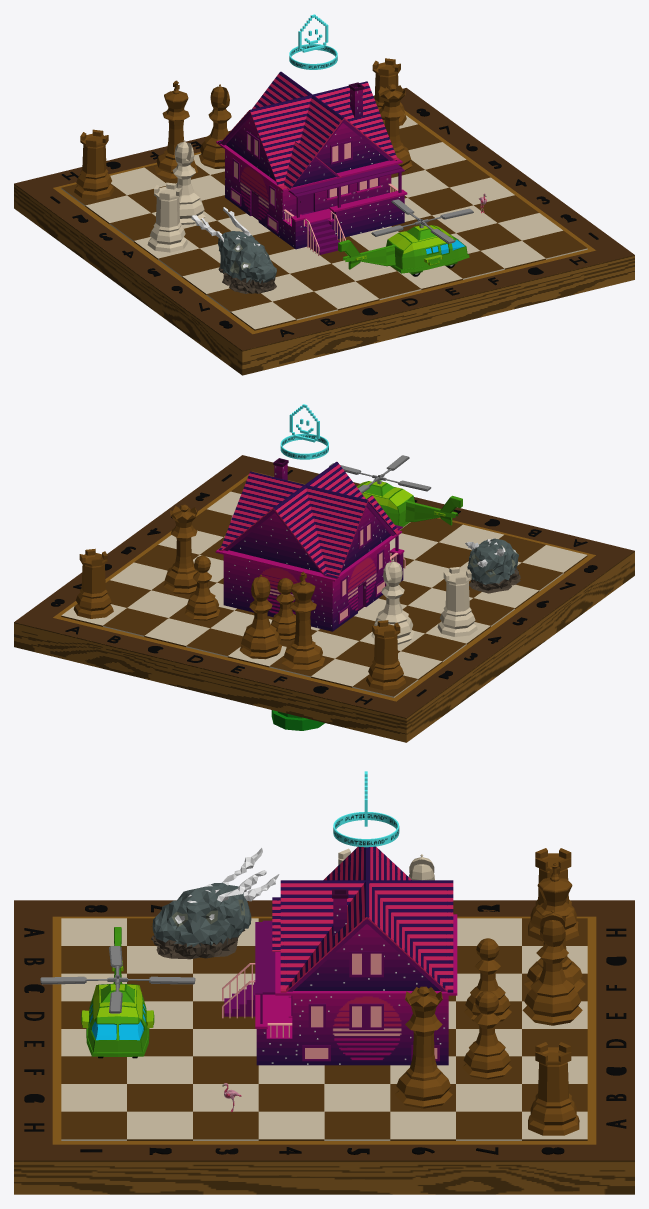
3 renders of one model, top to bottom at view 1: azimuth 30°, elevation 25°; view 2: azimuth 150°, elevation 25°; view 3: azimuth 270°, elevation 25°, orthographic. The views are drawn at different scales.
Visible parts, largest first — view 1: Cube.002, Cube.156, VEHICLES_HELICOPTER, OBJRANDOM_METEORITE, TYPE_PREMIUM; view 2: Cube.002, Cube.156, VEHICLES_HELICOPTER, OBJRANDOM_METEORITE, TYPE_PREMIUM, UNDERGROUND_PIPES; view 3: Cube.002, Cube.156, OBJRANDOM_METEORITE, VEHICLES_HELICOPTER, TYPE_PREMIUM.
Boxes of the visible parts, box(x1,y1,x2,y2) form: Cube.002: box(14, 58, 634, 375); Cube.156: box(216, 71, 407, 255); VEHICLES_HELICOPTER: box(338, 199, 473, 276); OBJRANDOM_METEORITE: box(191, 207, 276, 293); TYPE_PREMIUM: box(289, 14, 337, 69); Cube.002: box(14, 455, 634, 742); Cube.156: box(215, 458, 405, 631); VEHICLES_HELICOPTER: box(329, 455, 462, 526); OBJRANDOM_METEORITE: box(465, 538, 520, 593); TYPE_PREMIUM: box(280, 404, 328, 459); UNDERGROUND_PIPES: box(271, 710, 324, 730); Cube.002: box(14, 848, 634, 1194); Cube.156: box(222, 846, 457, 1065); OBJRANDOM_METEORITE: box(151, 848, 279, 959); VEHICLES_HELICOPTER: box(40, 927, 195, 1058); TYPE_PREMIUM: box(333, 771, 399, 847).
Bounding box in the file's own units: 3981 × 2761 × 4012.
37 materials, 5 textured.
